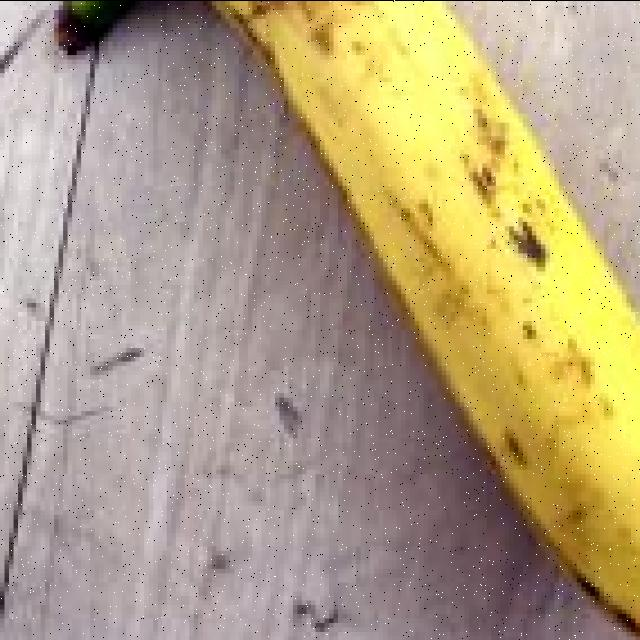Good_Banana-2-3 days: (199, 0, 640, 636)
